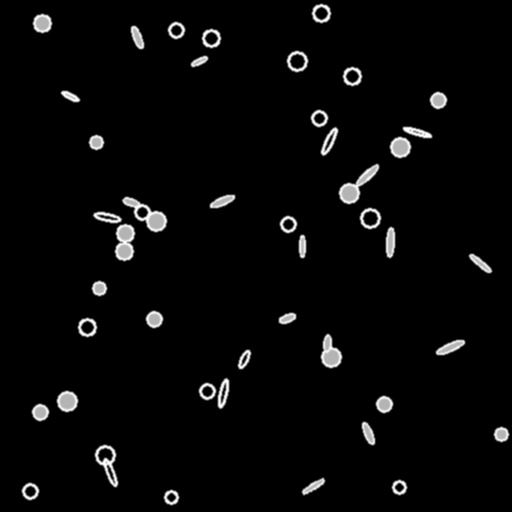pseudomonas: (354, 163, 380, 187), (319, 126, 339, 156), (468, 253, 492, 273), (102, 457, 118, 487), (436, 339, 464, 355), (301, 477, 325, 495), (209, 193, 235, 209), (402, 126, 432, 138), (360, 422, 376, 444), (217, 379, 229, 407), (130, 25, 144, 49), (237, 349, 251, 369), (94, 212, 120, 222), (386, 227, 394, 257), (60, 90, 80, 102), (190, 55, 208, 67), (278, 312, 296, 324), (122, 197, 140, 207), (323, 334, 331, 352), (300, 236, 305, 256)
synechocystis: (147, 212, 165, 230), (288, 52, 306, 70), (322, 348, 340, 366), (361, 209, 379, 227), (340, 184, 358, 202), (58, 392, 76, 410), (391, 138, 409, 156), (96, 446, 114, 464), (79, 319, 95, 335), (344, 68, 360, 84), (313, 5, 329, 21), (34, 15, 50, 31), (116, 243, 132, 259), (203, 30, 219, 46), (117, 225, 133, 241), (200, 384, 214, 398), (281, 217, 295, 231), (23, 484, 37, 498), (312, 111, 326, 125), (431, 93, 445, 107), (135, 205, 149, 219), (147, 312, 161, 326), (377, 397, 391, 411), (33, 405, 47, 419), (169, 23, 183, 37), (165, 491, 177, 503), (90, 136, 102, 148), (93, 282, 105, 294), (393, 481, 405, 493), (495, 428, 507, 440)
